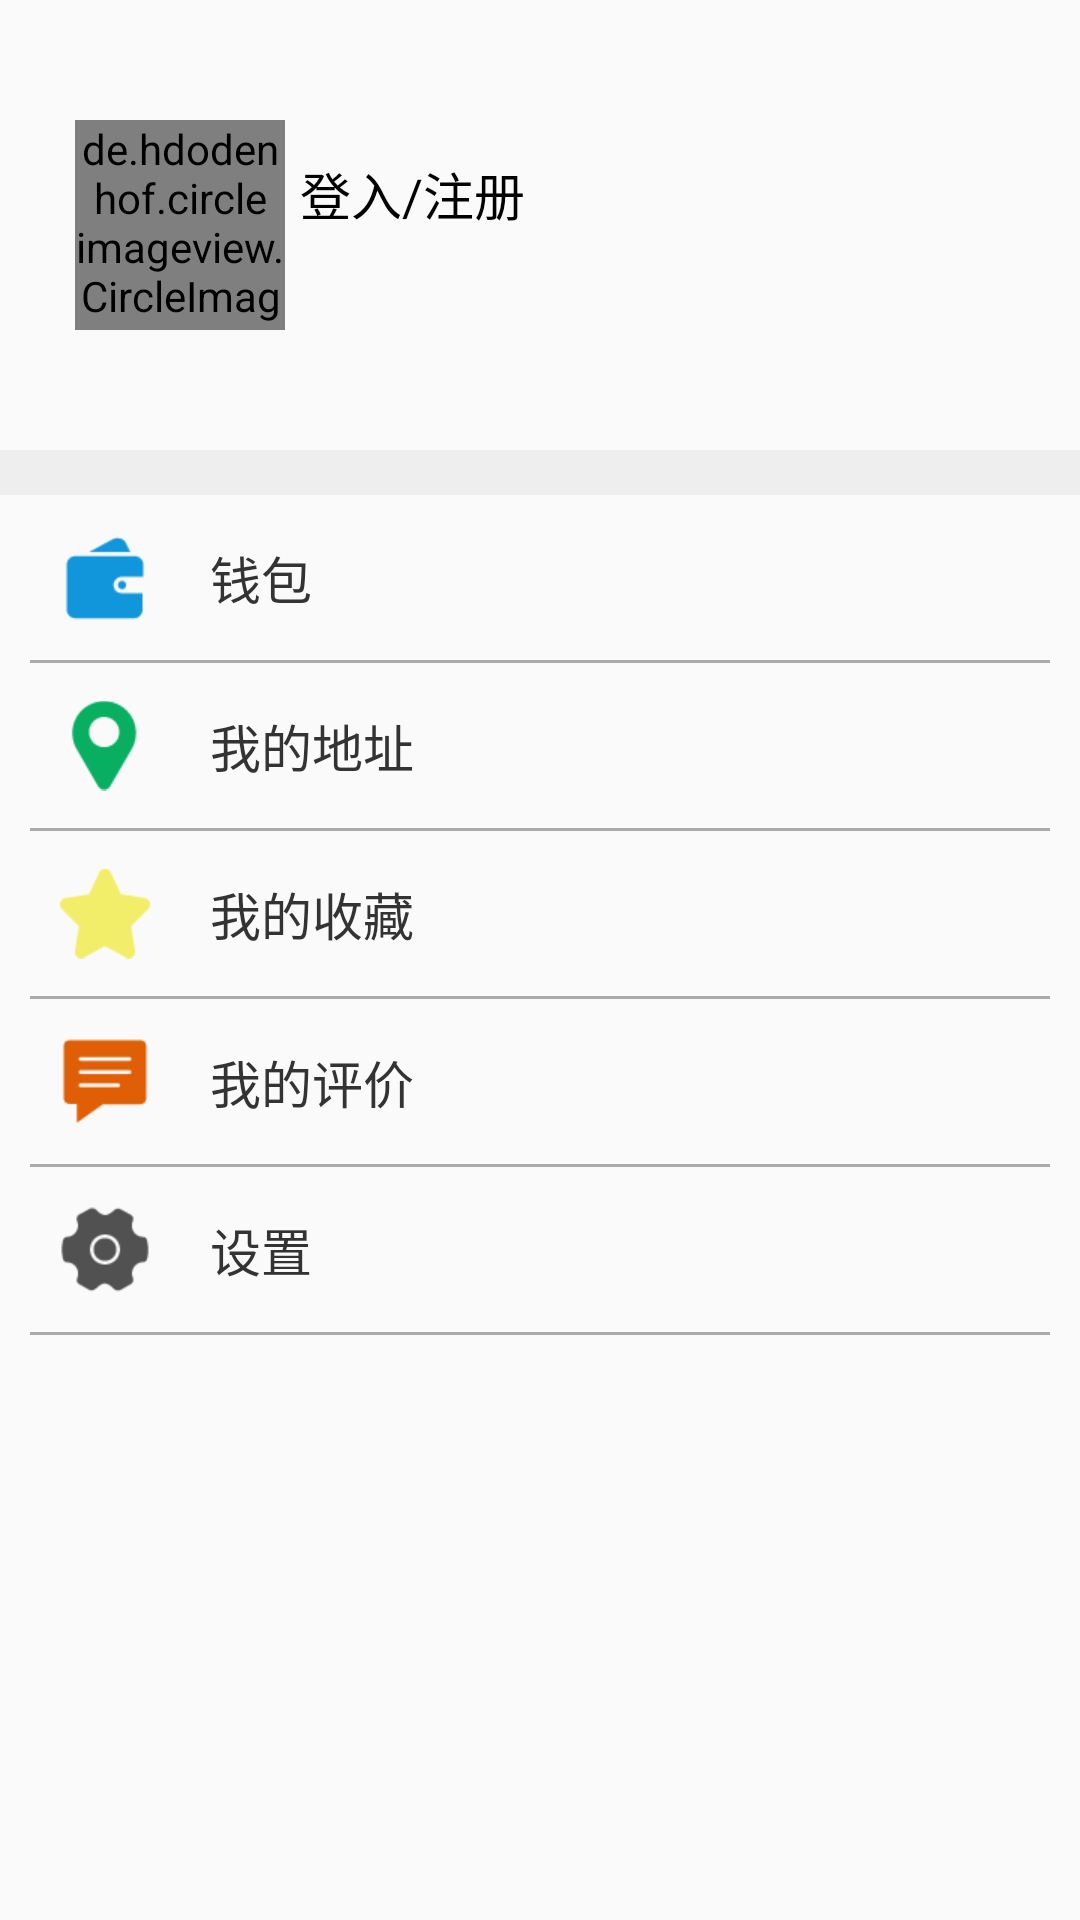

Locate icon controls on the screen. Image size 1080 × 1920, boxes as rect(x1, y1, x2, y2).
address: rect(71, 701, 137, 791)
collection: rect(60, 869, 150, 959)
evaluation: rect(63, 1039, 147, 1123)
set: rect(61, 1207, 149, 1291)
wallet: rect(66, 537, 144, 620)
